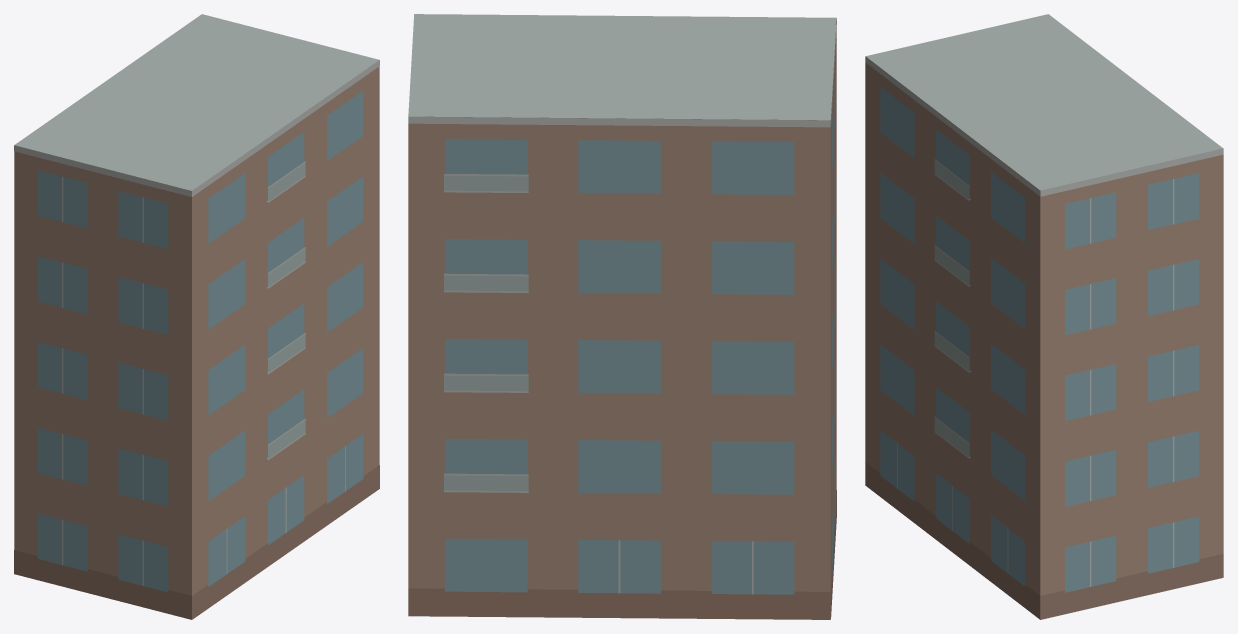
File: survey-upis-32638892.glb
3 views of the same model, side by side, from view 1: azimuth 30°, elevation 25°; view 2: azimuth 150°, elevation 25°; view 3: azimuth 270°, elevation 25° (orthographic). The views are drawn at different scales.
Visible parts, largest first — view 1: survey-upis-32638892.tmp; view 2: survey-upis-32638892.tmp; view 3: survey-upis-32638892.tmp.
Part boxes in pixels (bbox=[...]): survey-upis-32638892.tmp: bbox=[14, 14, 379, 619]; survey-upis-32638892.tmp: bbox=[408, 14, 836, 619]; survey-upis-32638892.tmp: bbox=[865, 14, 1223, 619].
Bounding box in the file's own units: 15.08 × 17.08 × 12.92.
